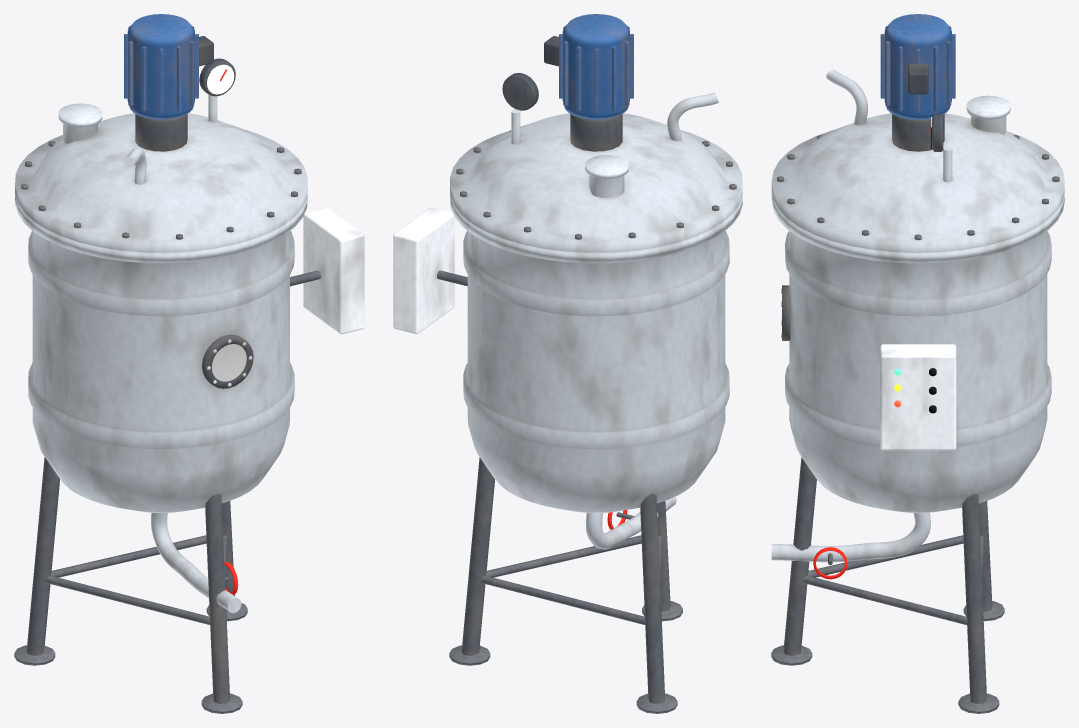
Rendered from lab_reaktor.glb.
The picture shows the model from 3 angles, left to right: view 1: azimuth 30°, elevation 25°; view 2: azimuth 150°, elevation 25°; view 3: azimuth 270°, elevation 25°; orthographic projection.
Visible parts, largest first — view 1: Reaktor, Szyba; view 2: Reaktor; view 3: Reaktor.
Part boxes in pixels (left/top/right/bottom): Reaktor: left=14, top=14, right=364, bottom=713; Szyba: left=212, top=344, right=246, bottom=381; Reaktor: left=393, top=14, right=742, bottom=713; Reaktor: left=771, top=14, right=1064, bottom=713.
Size of the model in its own units: 1.24 by 2.38 by 1.
Materials: 6 (1 with a texture image).
